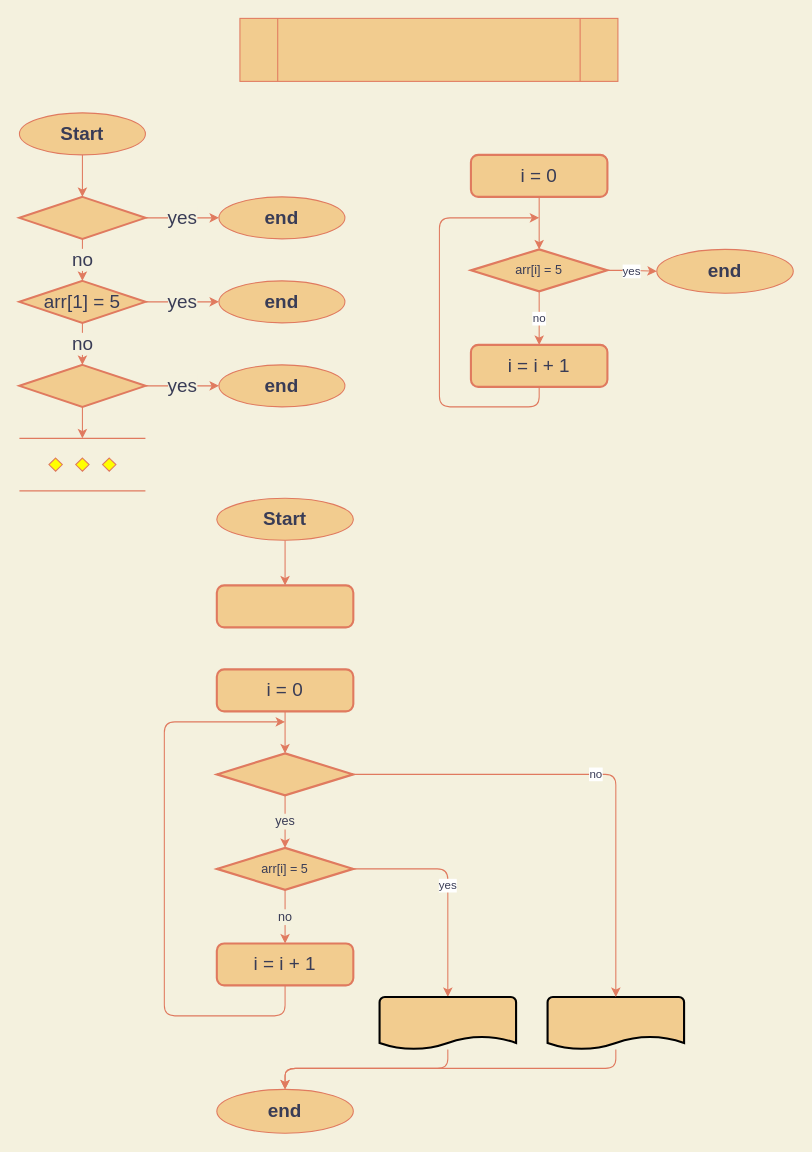
Image size: 812x1152. Some labels were removed from this diagram. The box of each missing label's shape, as (x1, y1, x2, y2) in pixels:
arr = {4,2,3,5,1}: (215, 584, 354, 628)
arr[0] = 5: (18, 195, 146, 239)
arr[2] = 5: (18, 363, 146, 407)
i < 5: (215, 752, 354, 796)
Linear Search: (239, 17, 618, 81)
값을 찾지 못했습니다.: (546, 995, 685, 1050)
찾는 값은 i번째에 있습니다.: (378, 995, 517, 1050)
